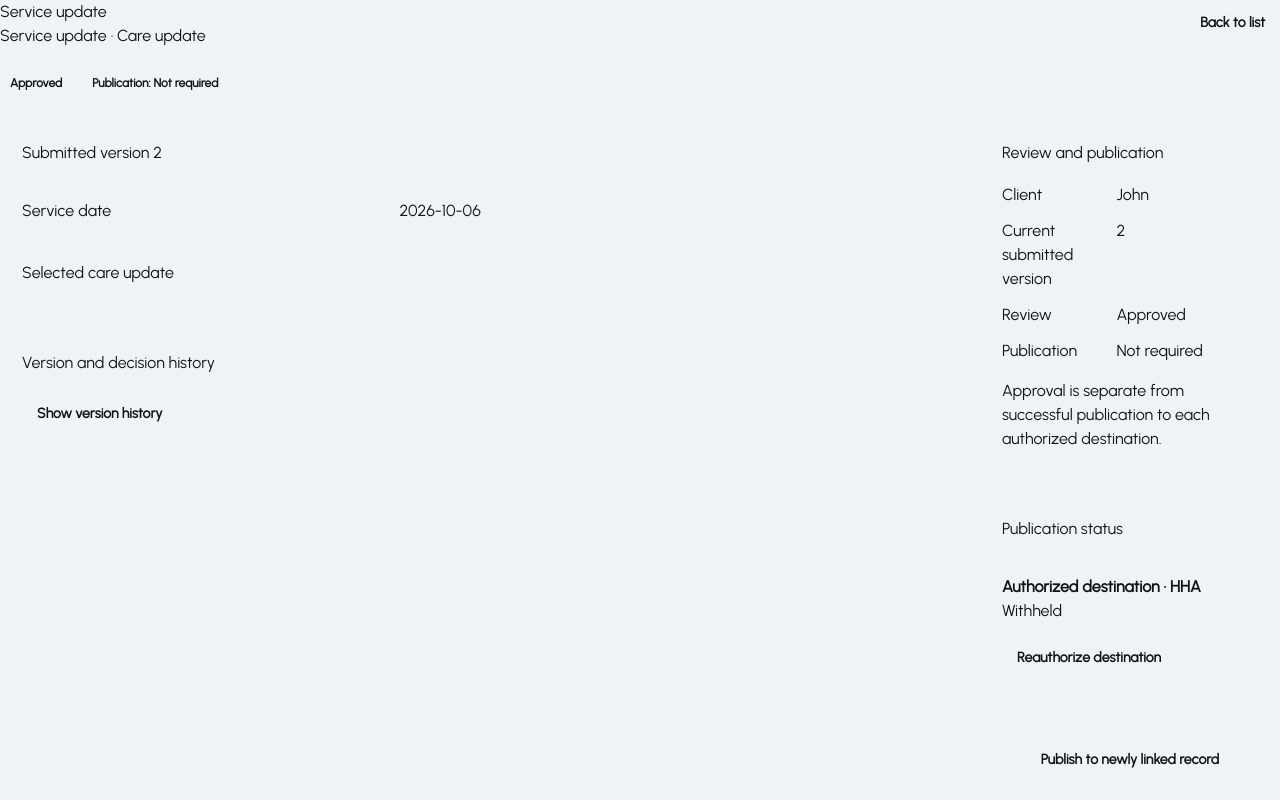
it: blocks reauthorization until the current exact destination is confirmed and acknowledged
The width and height of the screenshot is (1280, 800).
Click the button "Reauthorize destination".
click(1089, 658)  # box [1002, 637, 1176, 679]
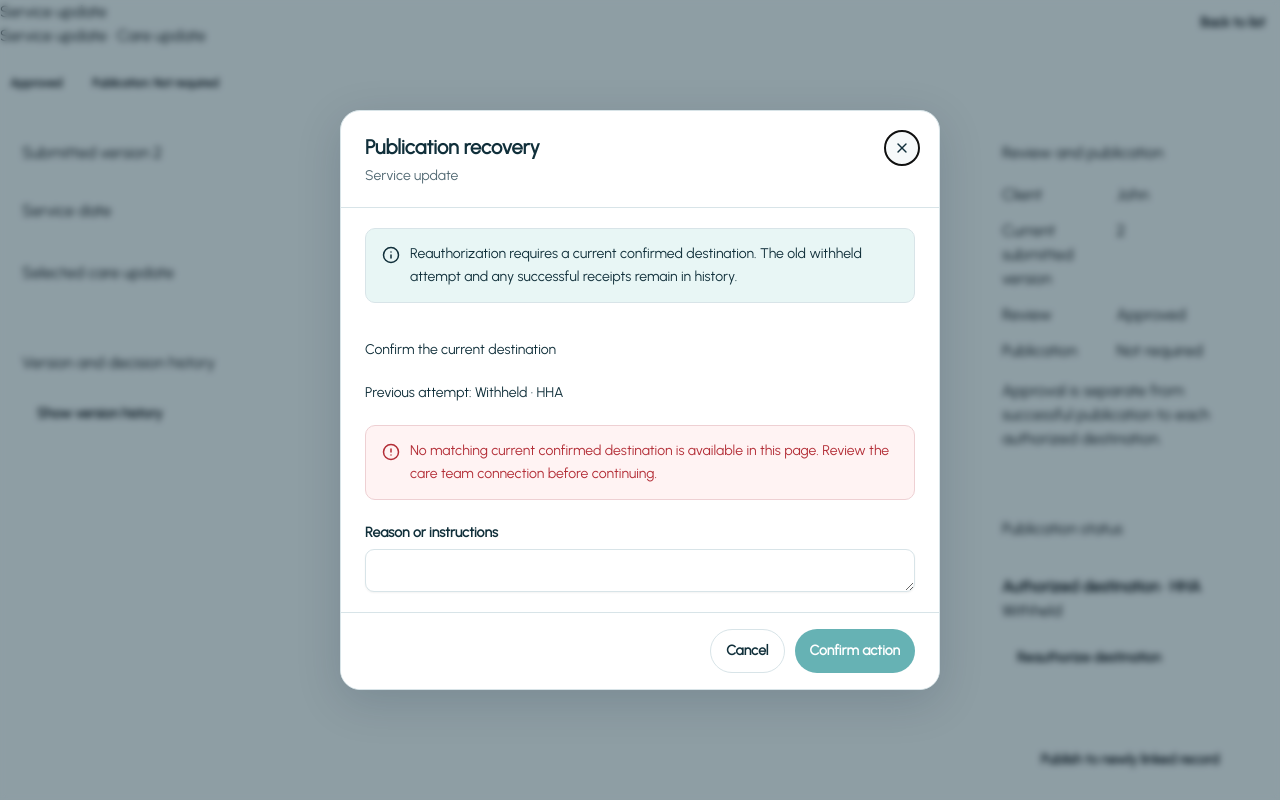
Check: the text "No matching current confirmed destination is available in this page. Review the care team connection before continuing." is shown, box [410, 442, 889, 482]
Check: the button "Confirm action" is disabled, box [794, 629, 915, 673]
